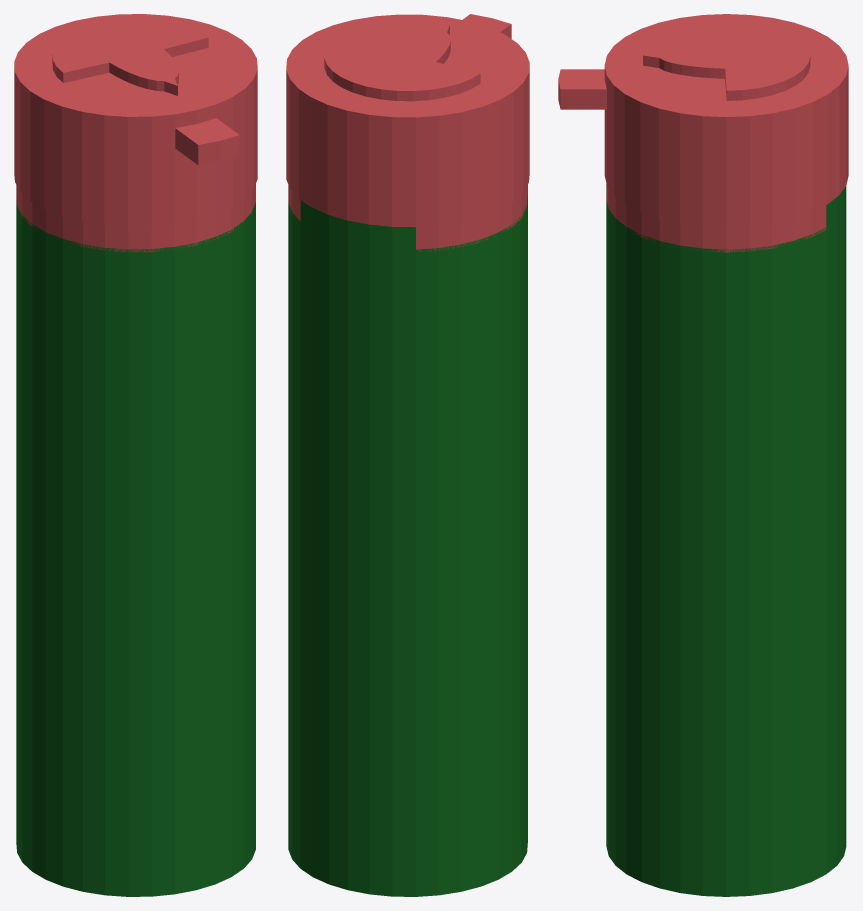
The model's file is spray can.fbx.
The picture shows the model from 3 angles, left to right: view 1: azimuth 30°, elevation 25°; view 2: azimuth 150°, elevation 25°; view 3: azimuth 270°, elevation 25°; orthographic projection.
Parts seen in each view (by area): view 1: obatnyamuk; view 2: obatnyamuk; view 3: obatnyamuk.
Boxes of the visible parts, box(x1,y1,x2,y2) form: obatnyamuk: box(14, 14, 257, 896); obatnyamuk: box(286, 14, 529, 896); obatnyamuk: box(558, 14, 848, 896).
Size of the model in its own units: 203 by 727 by 242.
